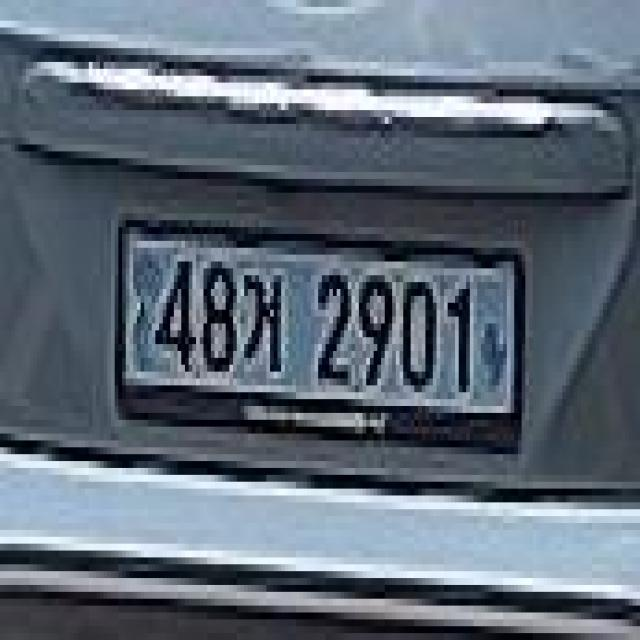EV_plate: (112, 202, 527, 472)
